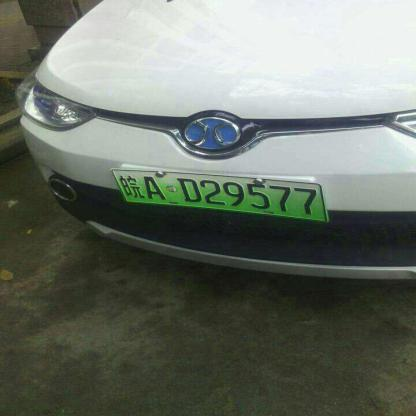lp: (107, 167, 326, 222)
